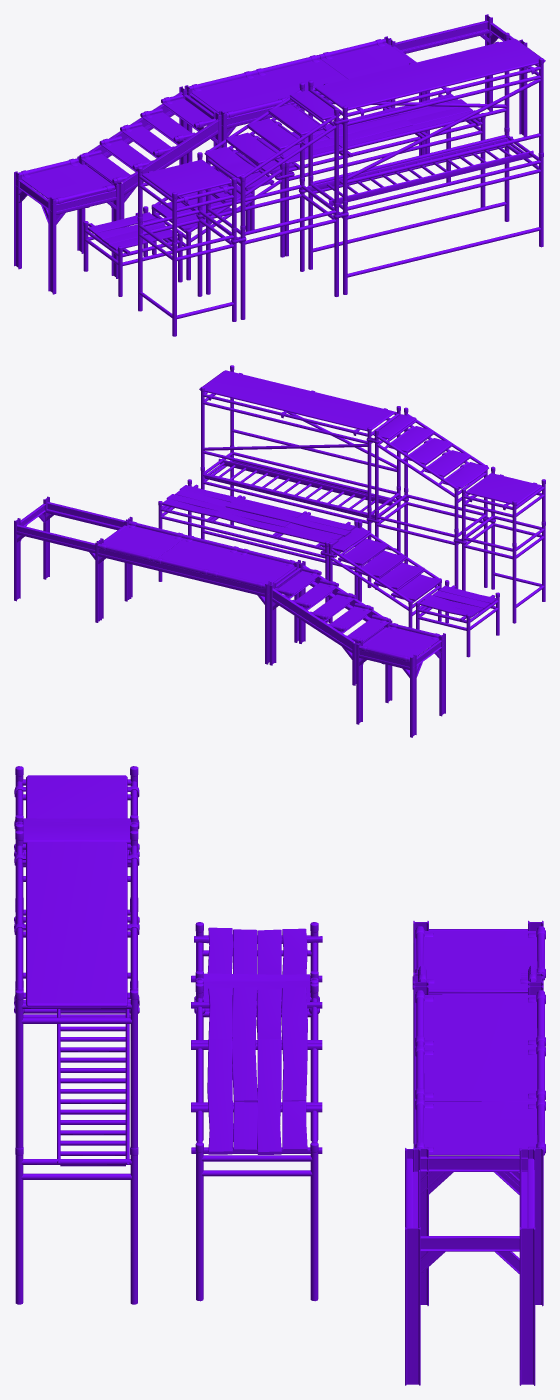
File: scafold.glb
The picture shows the model from 3 angles, top to bottom: view 1: azimuth 30°, elevation 25°; view 2: azimuth 150°, elevation 25°; view 3: azimuth 270°, elevation 25°; orthographic projection. The views are drawn at different scales.
Parts seen in each view (by area): view 1: ind_scaffold_02_platform_01_inst_001, ind_scaffold_02_stair_inst_001, ind_scaffold_01_stair_inst_001, ind_scaffold_01_frame_02_inst_001, ind_scaffold_01_platform_01_inst_001, ind_scaffold_01_frame_03_inst_001, ind_scaffold_01_platform_01_wood_inst_001, ind_scaffold_01_stair_frame_01_inst_001, ind_scaffold_01_short_01_inst_001, ind_scaffold_02_short_01_inst_001, ind_scaffold_01_stair_wood_inst_001, ind_scaffold_ladder_01_inst_001 (+8 smaller); view 2: ind_scaffold_02_platform_01_inst_001, ind_scaffold_02_stair_inst_001, ind_scaffold_01_stair_inst_001, ind_scaffold_01_stair_wood_inst_001, ind_scaffold_01_platform_01_inst_001, ind_scaffold_01_platform_01_wood_inst_001, ind_scaffold_01_frame_03_inst_001, ind_scaffold_01_frame_02_inst_001, ind_scaffold_02_frame_stair_inst_001, ind_scaffold_02_frame_01_inst_001, ind_scaffold_02_short_01_inst_001, ind_scaffold_01_short_01_inst_001 (+8 smaller); view 3: ind_scaffold_02_platform_01_inst_001, ind_scaffold_01_platform_01_wood_inst_001, ind_scaffold_01_platform_01_inst_001, ind_scaffold_02_frame_stair_inst_001, ind_scaffold_01_frame_01_inst_001, ind_scaffold_01_frame_03_inst_001, ind_scaffold_ladder_01_inst_001, ind_scaffold_02_platform_01_small_inst_001, ind_scaffold_01_platform_01_wood_small_inst_001, ind_scaffold_01_platform_01_small_inst_001, ind_scaffold_01_frame_02_inst_001, ind_scaffold_02_frame_01_inst_001 (+5 smaller).
Part boxes in pixels (x1,y1,x2,y2): ind_scaffold_02_platform_01_inst_001: [188, 38, 412, 117]; ind_scaffold_02_stair_inst_001: [79, 86, 221, 219]; ind_scaffold_01_stair_inst_001: [204, 82, 346, 226]; ind_scaffold_01_frame_02_inst_001: [298, 127, 543, 294]; ind_scaffold_01_platform_01_inst_001: [315, 38, 545, 115]; ind_scaffold_01_frame_03_inst_001: [308, 32, 543, 201]; ind_scaffold_01_platform_01_wood_inst_001: [260, 93, 480, 169]; ind_scaffold_01_stair_frame_01_inst_001: [196, 177, 339, 319]; ind_scaffold_01_short_01_inst_001: [137, 202, 236, 336]; ind_scaffold_02_short_01_inst_001: [14, 156, 119, 294]; ind_scaffold_01_stair_wood_inst_001: [151, 149, 294, 280]; ind_scaffold_ladder_01_inst_001: [308, 136, 533, 205]; ind_scaffold_02_platform_01_inst_001: [97, 521, 296, 588]; ind_scaffold_02_stair_inst_001: [269, 561, 390, 685]; ind_scaffold_01_stair_inst_001: [372, 407, 488, 529]; ind_scaffold_01_stair_wood_inst_001: [320, 521, 441, 627]; ind_scaffold_01_platform_01_inst_001: [199, 370, 394, 435]; ind_scaffold_01_platform_01_wood_inst_001: [162, 484, 355, 548]; ind_scaffold_01_frame_03_inst_001: [200, 365, 400, 508]; ind_scaffold_01_frame_02_inst_001: [200, 446, 408, 587]; ind_scaffold_02_frame_stair_inst_001: [14, 496, 132, 621]; ind_scaffold_02_frame_01_inst_001: [95, 518, 300, 664]; ind_scaffold_02_short_01_inst_001: [356, 620, 445, 737]; ind_scaffold_01_short_01_inst_001: [461, 509, 545, 623]; ind_scaffold_02_platform_01_inst_001: [415, 990, 545, 1155]; ind_scaffold_01_platform_01_wood_inst_001: [191, 987, 322, 1154]; ind_scaffold_01_platform_01_inst_001: [14, 842, 139, 1007]; ind_scaffold_02_frame_stair_inst_001: [405, 1147, 535, 1385]; ind_scaffold_01_frame_01_inst_001: [194, 983, 319, 1301]; ind_scaffold_01_frame_03_inst_001: [14, 830, 139, 1148]; ind_scaffold_ladder_01_inst_001: [57, 999, 129, 1166]; ind_scaffold_02_platform_01_small_inst_001: [415, 926, 545, 980]; ind_scaffold_01_platform_01_wood_small_inst_001: [191, 927, 322, 982]; ind_scaffold_01_platform_01_small_inst_001: [14, 775, 139, 828]; ind_scaffold_01_frame_02_inst_001: [14, 987, 139, 1304]; ind_scaffold_02_frame_01_inst_001: [413, 985, 543, 1306].
Bounding box in the file's own units: 13.83 × 6.51 × 8.12.
